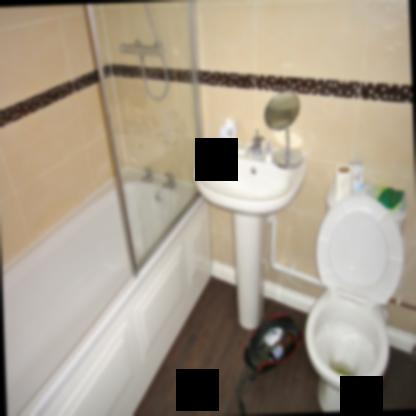handbag: (236, 315, 301, 415)
